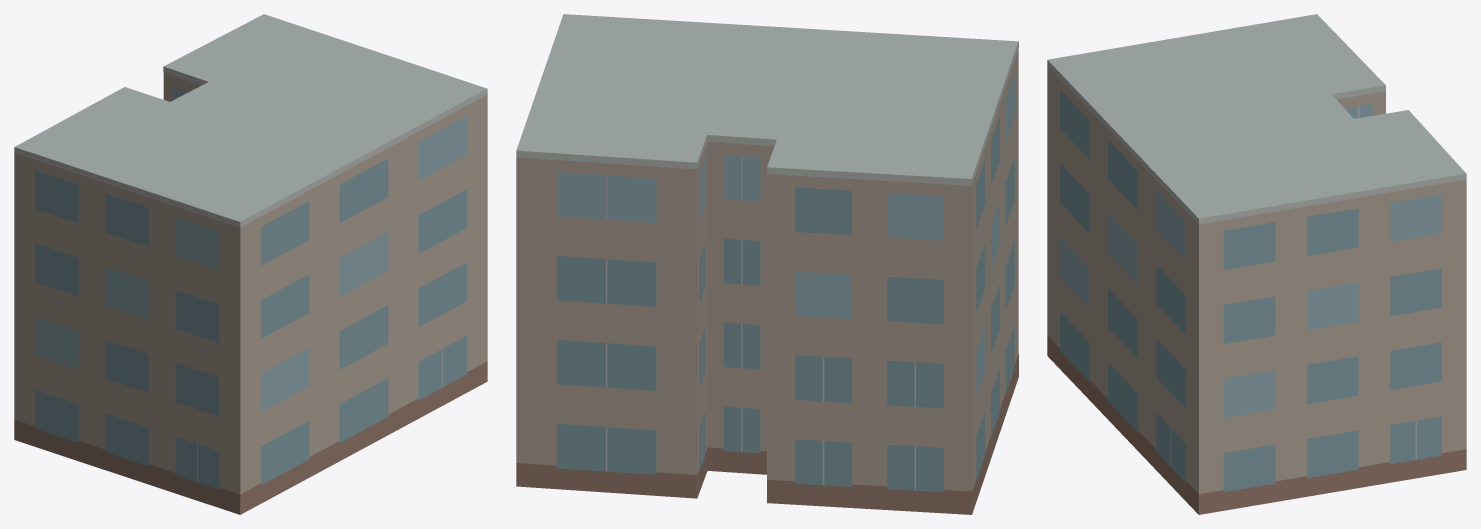
The model's file is survey-upis-32548833.glb.
3 views of the same model, side by side, from view 1: azimuth 30°, elevation 25°; view 2: azimuth 150°, elevation 25°; view 3: azimuth 270°, elevation 25° (orthographic). The views are drawn at different scales.
Visible parts, largest first — view 1: survey-upis-32548833.tmp; view 2: survey-upis-32548833.tmp; view 3: survey-upis-32548833.tmp.
Boxes of the visible parts, left/top/right/bottom form: survey-upis-32548833.tmp: left=14, top=14, right=487, bottom=514; survey-upis-32548833.tmp: left=516, top=14, right=1018, bottom=514; survey-upis-32548833.tmp: left=1047, top=14, right=1466, bottom=514.
Size of the model in its own units: 18.01 by 12.15 by 15.59.
